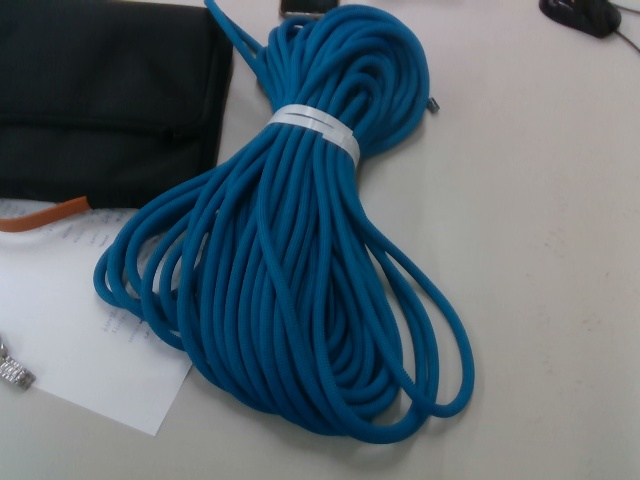rope: (90, 2, 482, 447)
